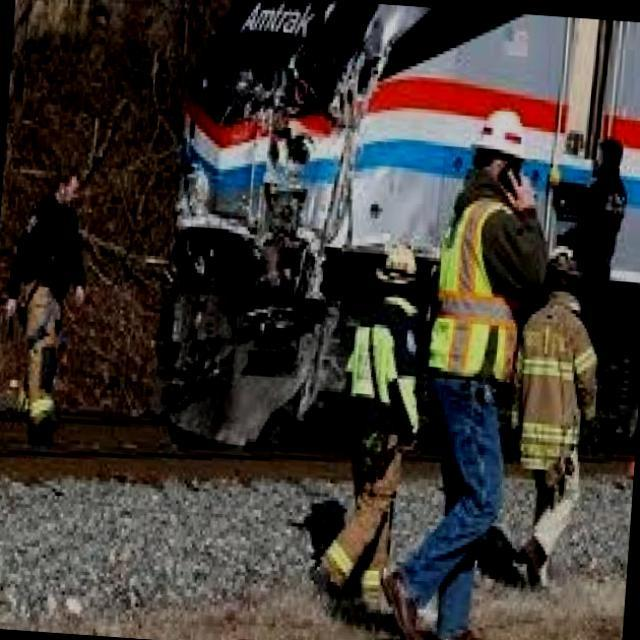accident: (116, 0, 401, 474)
